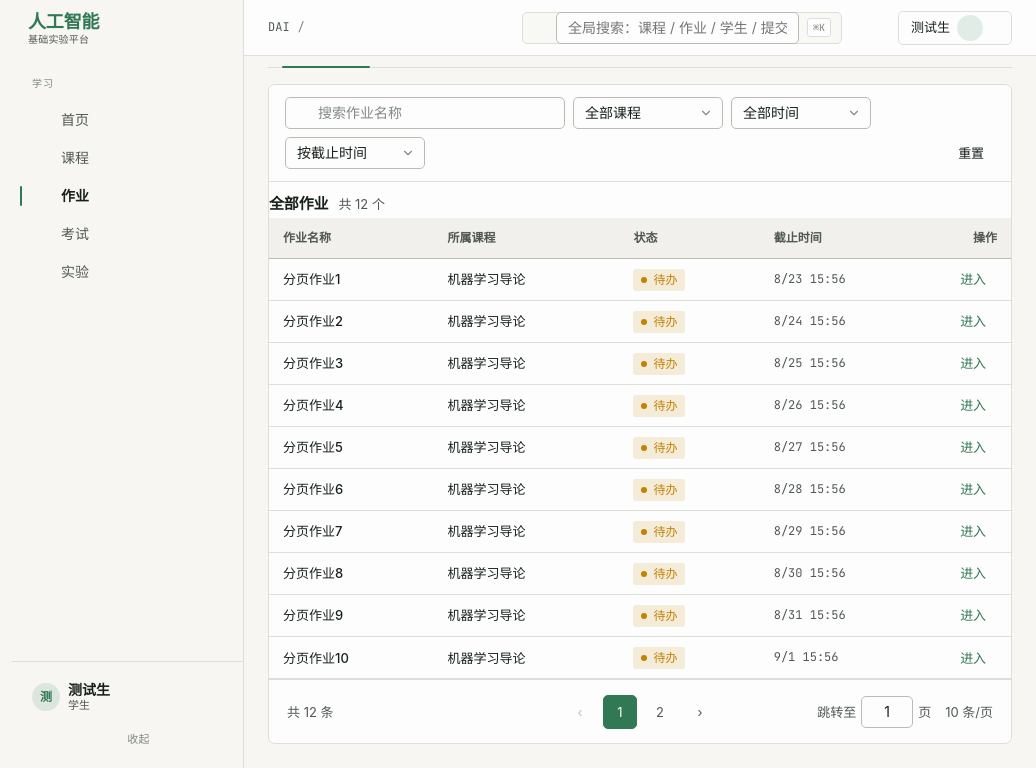
作业列表 AssignmentListView › 每页展示 10 条作业并可切换分页
The image size is (1036, 768).
(page scrolled)
Check: the text "共 12 条" is shown, box [287,704,334,720]
What coordinates should you click on to do the following:
click the button "2"
I would click on:
 (660, 712)
Its box is [643,695,677,729].
(page scrolled)
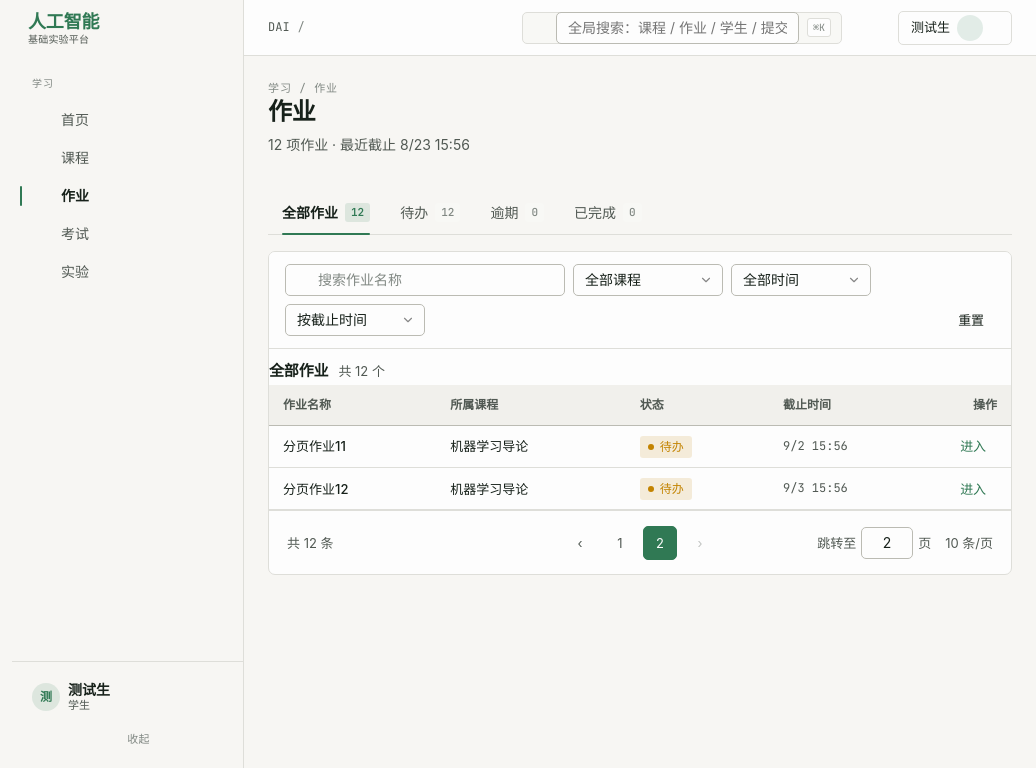
Check: the text "分页作业11" is shown, box [283,438,346,454]
